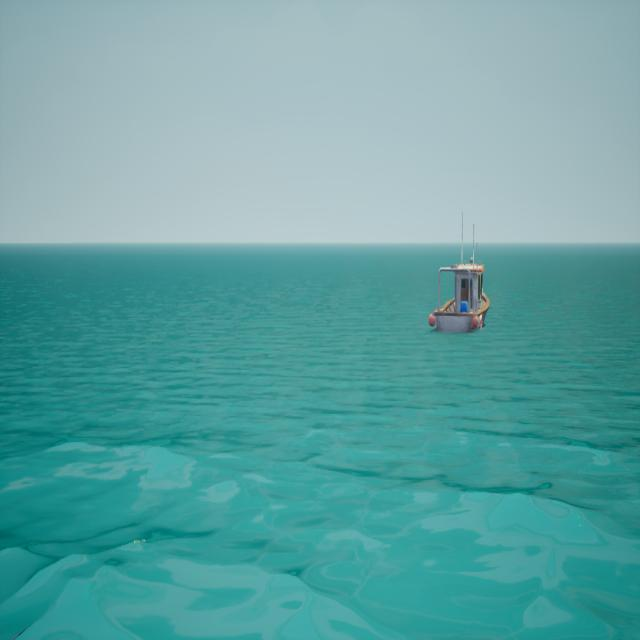ship: (429, 203, 492, 344)
